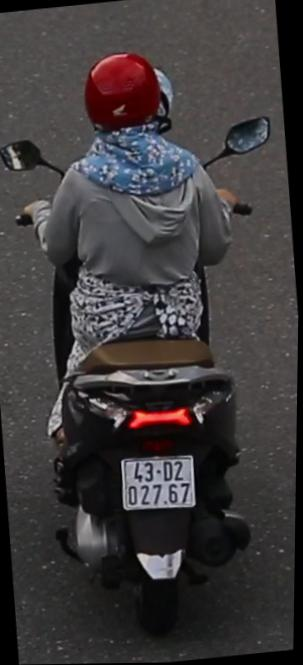LP: (116, 444, 204, 519)
helmet: (71, 41, 186, 154)
